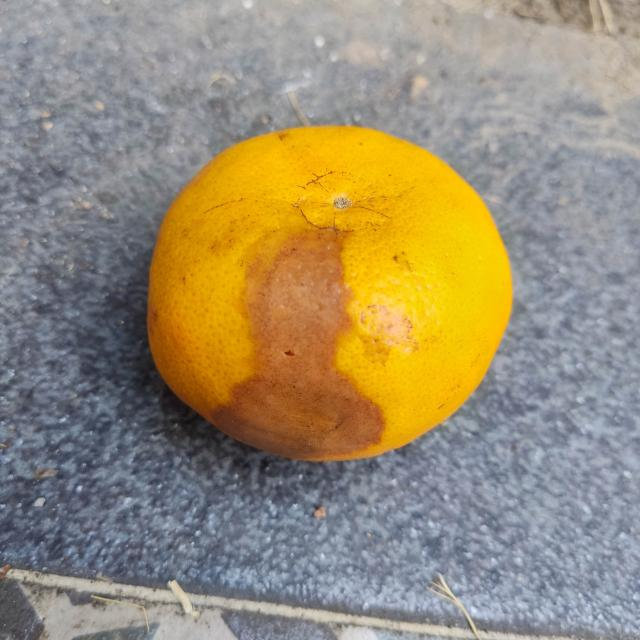orange: (144, 121, 517, 463)
